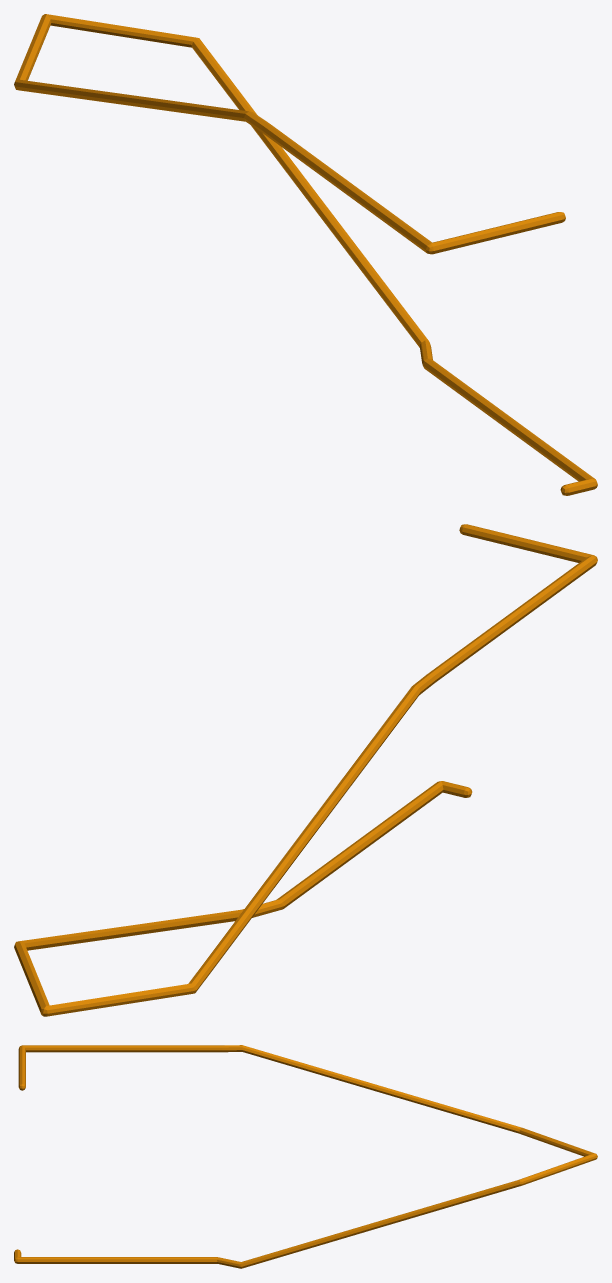
3 renders of one model, top to bottom at view 1: azimuth 30°, elevation 25°; view 2: azimuth 150°, elevation 25°; view 3: azimuth 270°, elevation 25°, orthographic. The views are drawn at different scales.
Bounding box in the file's own units: 360 × 520 × 1605.
